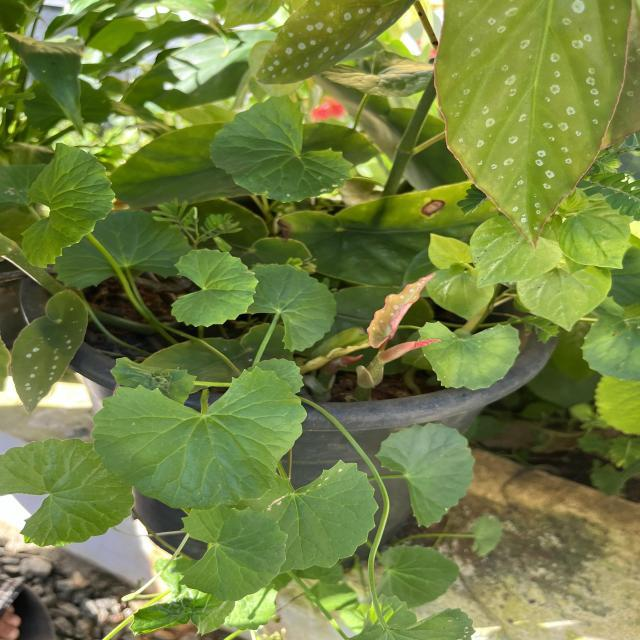Centella asiatica: (90, 362, 310, 513), (0, 434, 138, 549), (16, 140, 119, 270), (174, 500, 290, 604), (416, 317, 524, 393), (168, 246, 262, 330)
